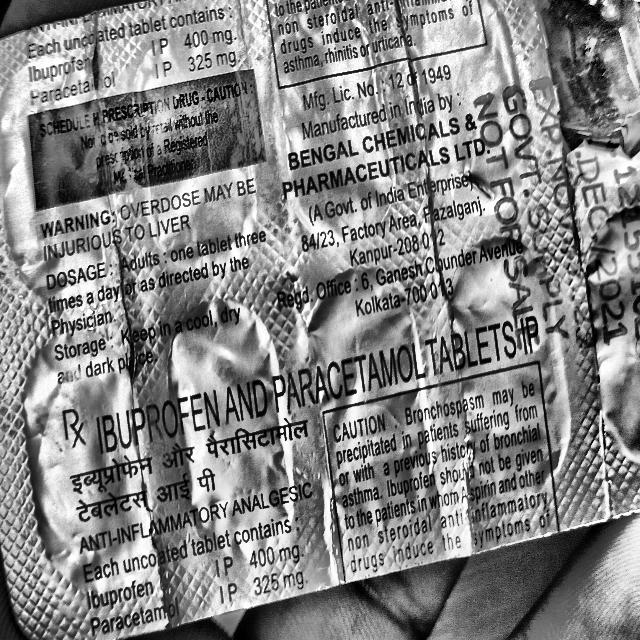IBUPROFEN AND PARACETAMOL TABLETS: (90, 330, 590, 399)
